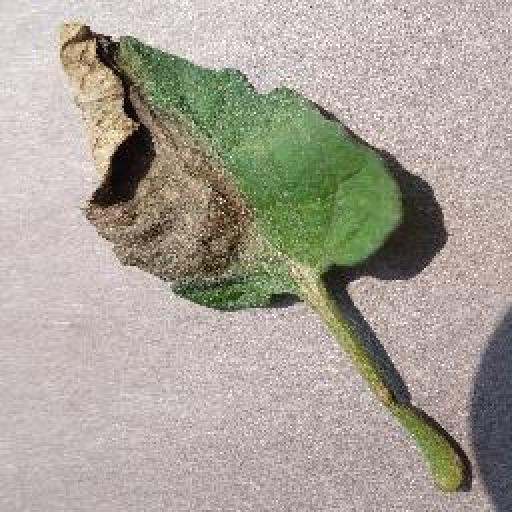Late Blight: (54, 20, 406, 315)
